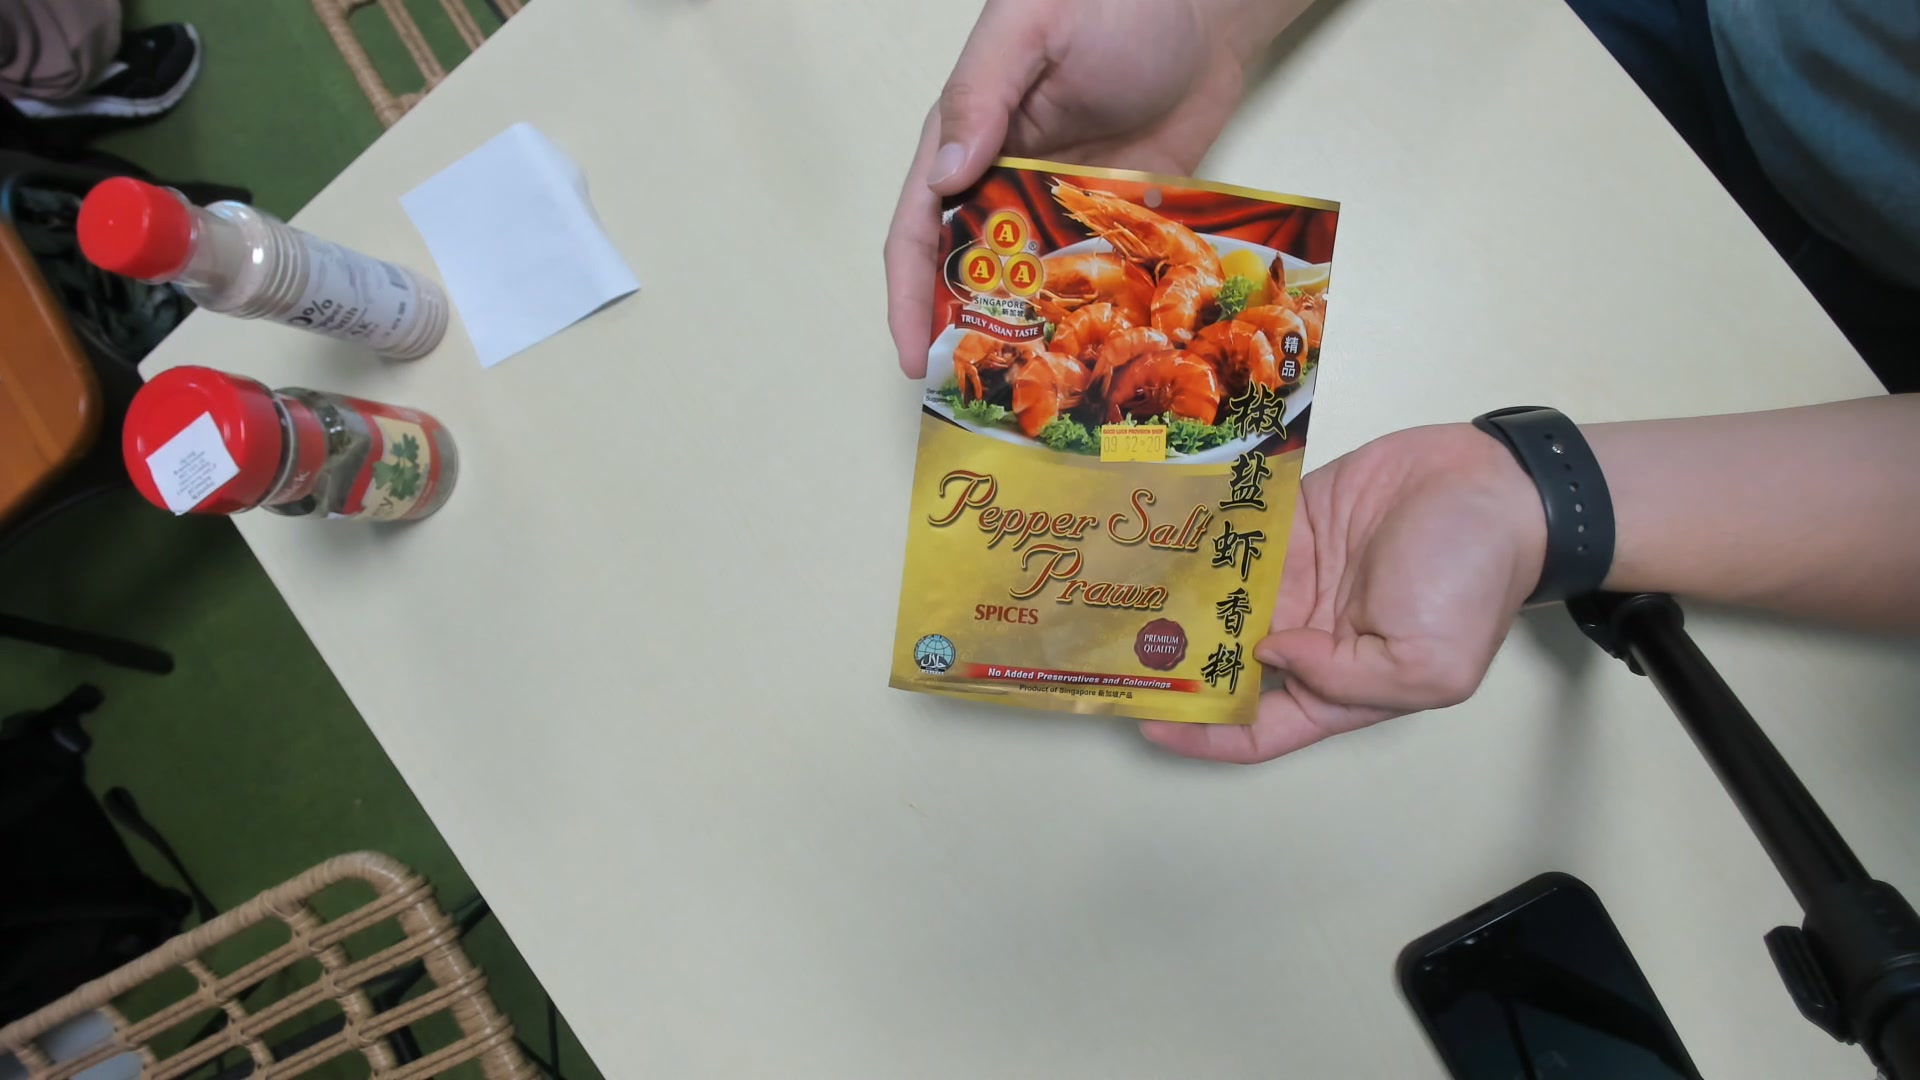HerbsSpicesPepper_400-499g_Halal_NonHealthy: (884, 152, 1335, 723)
